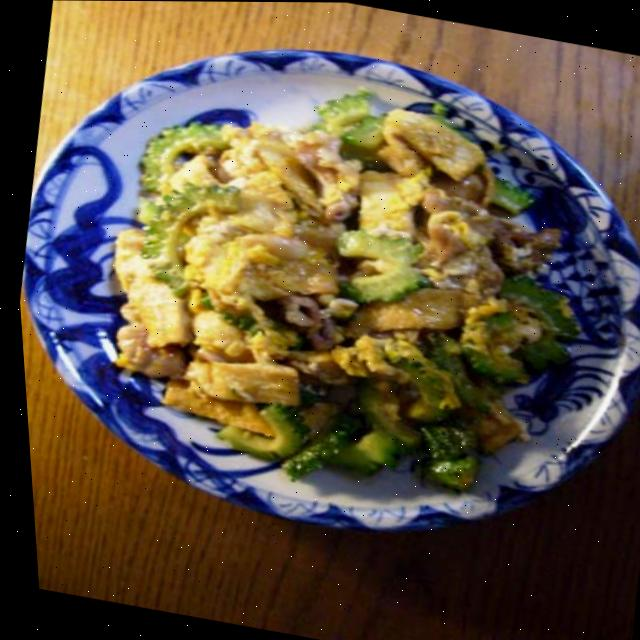熟制海鲜: (0, 0, 640, 606)
